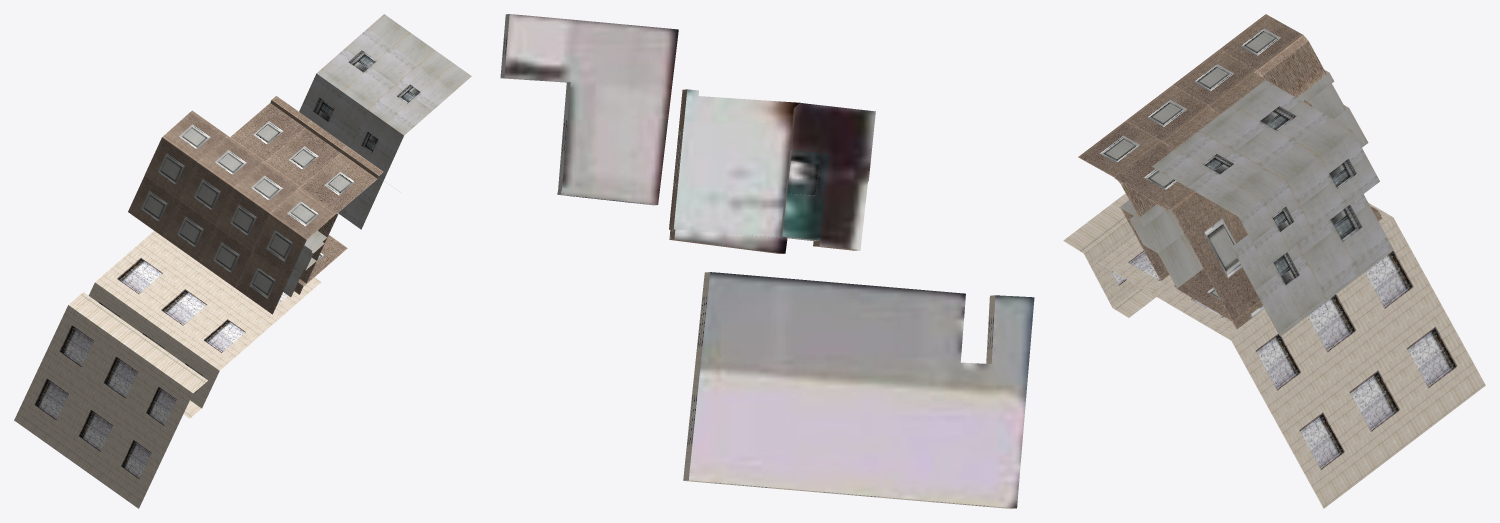
The picture shows the model from 3 angles, left to right: view 1: azimuth 30°, elevation 25°; view 2: azimuth 150°, elevation 25°; view 3: azimuth 270°, elevation 25°; orthographic projection. The views are drawn at different scales.
Bounding box in the file's own units: 35.69 × 28.88 × 22.64.
Materials: 23 (23 with a texture image).
